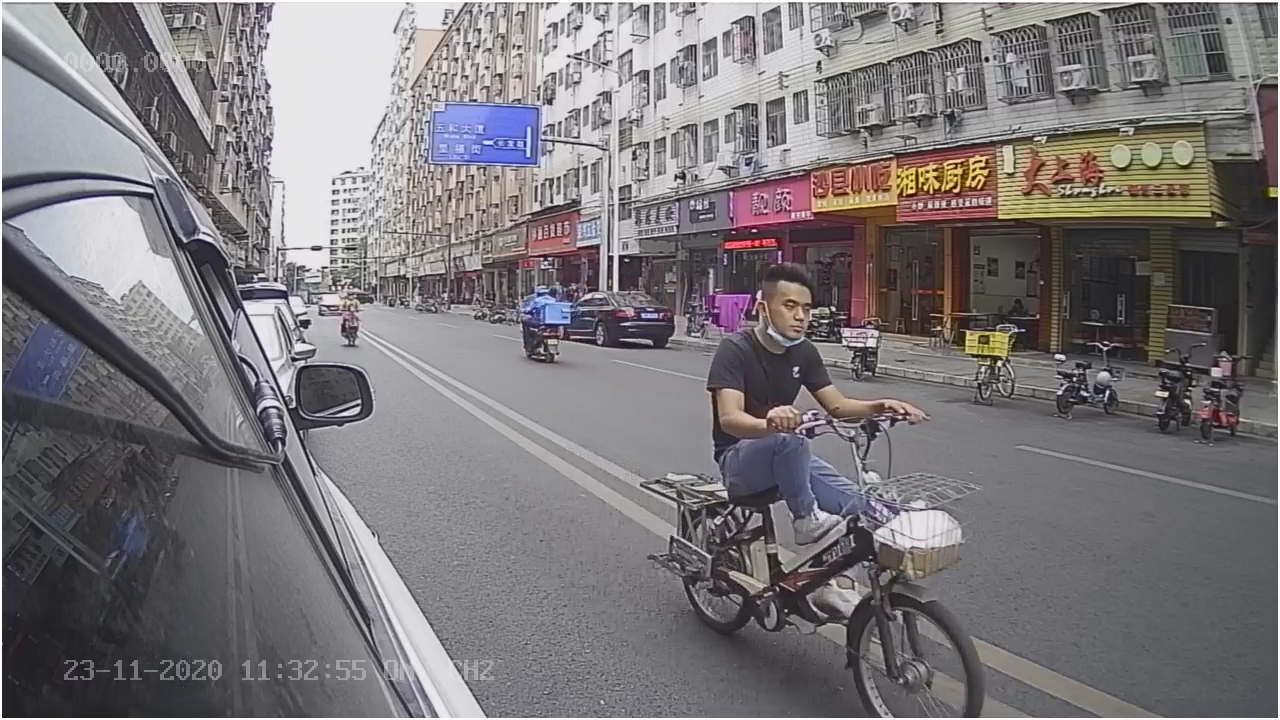person: (722, 252, 883, 429)
